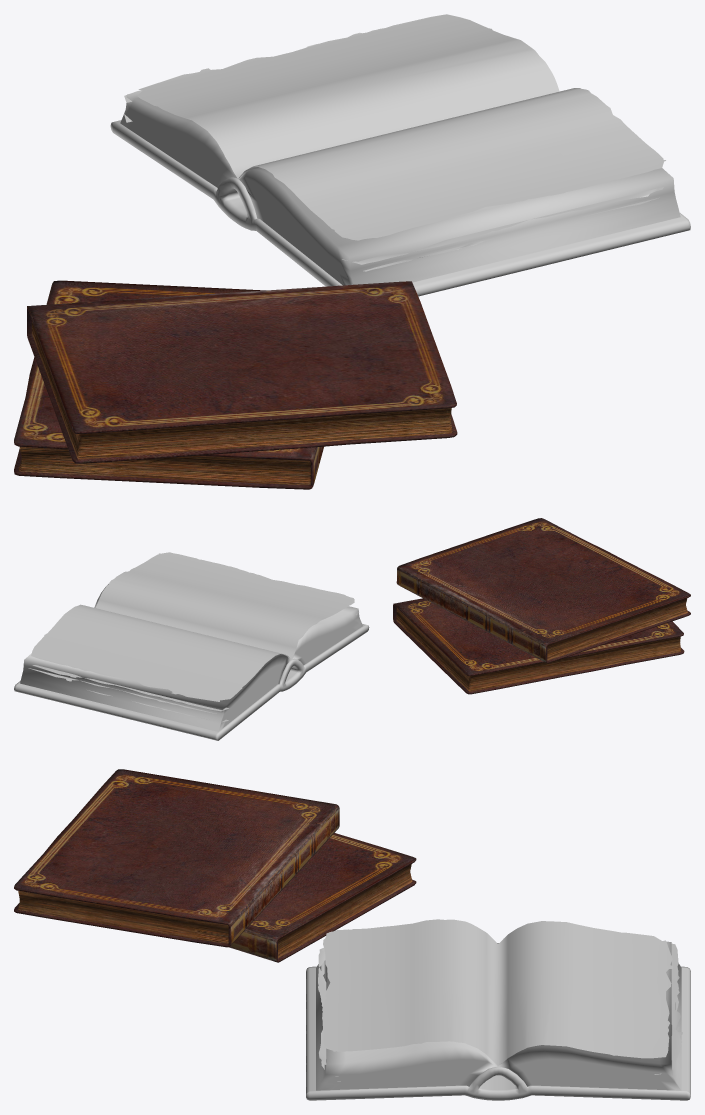
File: Livros_Antigos.fbx
3 views of the same model, one above another, from view 1: azimuth 30°, elevation 25°; view 2: azimuth 150°, elevation 25°; view 3: azimuth 270°, elevation 25° (orthographic). The views are drawn at different scales.
Visible parts, largest first — view 1: Livros_Fechados; view 2: Livros_Fechados; view 3: Livros_Fechados.
Boxes of the visible parts, left/top/right/bottom form: Livros_Fechados: left=14, top=14, right=690, bottom=489; Livros_Fechados: left=14, top=518, right=690, bottom=740; Livros_Fechados: left=14, top=769, right=690, bottom=1100.
Size of the model in its own units: 67.43 by 6.19 by 67.12.
